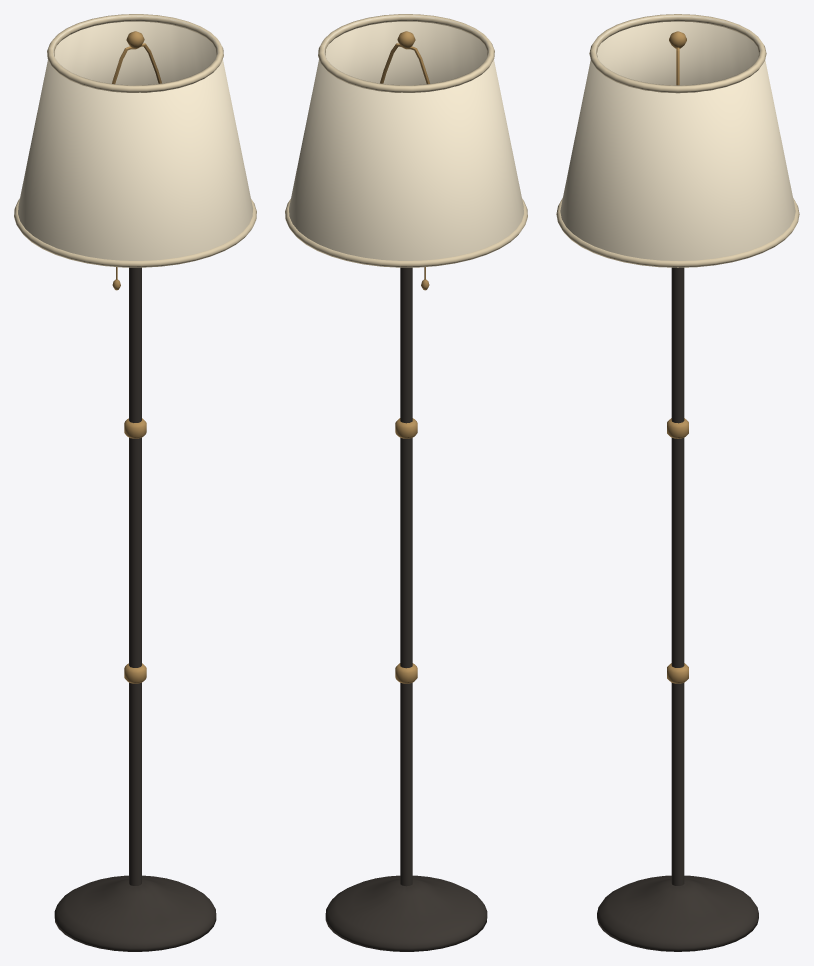
File: lamp.glb
3 views of the same model, side by side, from view 1: azimuth 30°, elevation 25°; view 2: azimuth 150°, elevation 25°; view 3: azimuth 270°, elevation 25° (orthographic).
Visible parts, largest first — view 1: lamp; view 2: lamp; view 3: lamp.
Part boxes in pixels (<box>): lamp: <box>14,14,256,951</box>; lamp: <box>285,14,527,951</box>; lamp: <box>556,14,799,951</box>.
Size of the model in its own units: 0.45 by 1.81 by 0.45.
